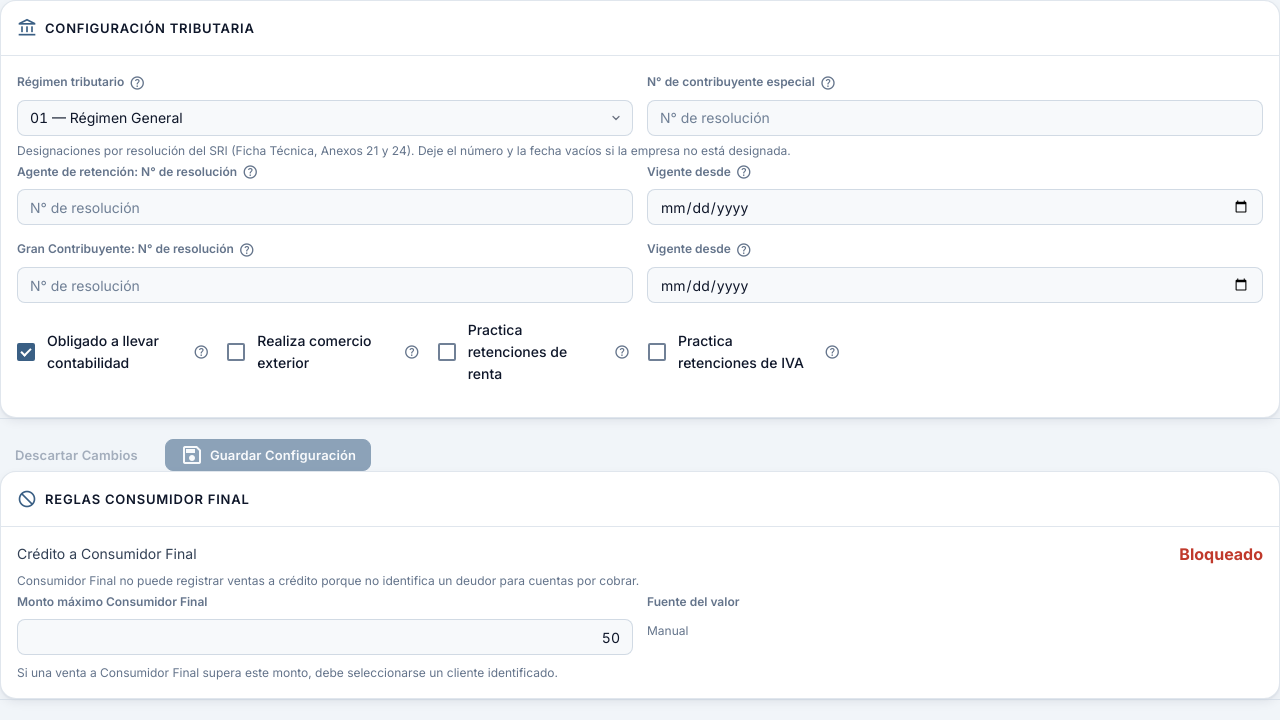
Test: FiscalSettingsSection — designaciones del emisor › rechaza un contribuyente especial fuera del formato del XSD
Expected: the text "Manual" is shown, left=647, top=623, right=688, bottom=638
Type "Res. 5368" into the field with placeholder "N° de resolución" below "N° de contribuyente especial".
click(955, 118); type("Res. 5368")  # box left=647, top=100, right=1263, bottom=136
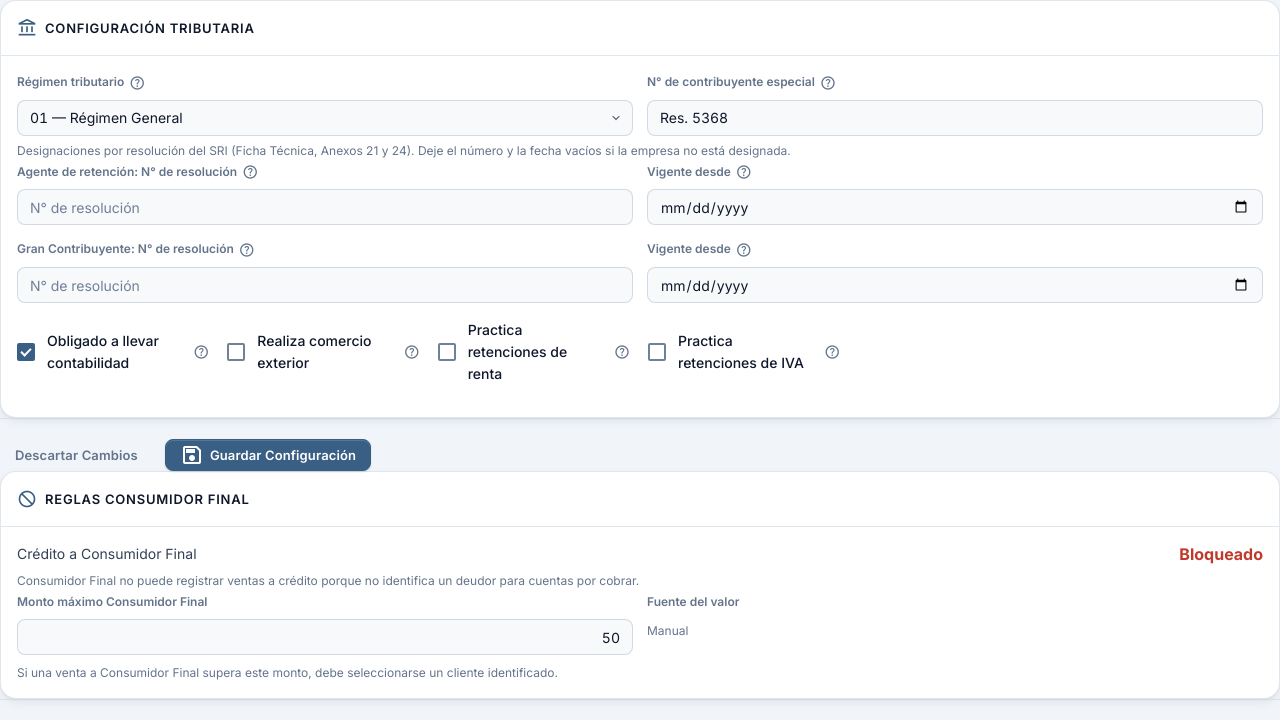
Click the button "Guardar Configuración".
click(268, 455)  # box left=165, top=439, right=371, bottom=471
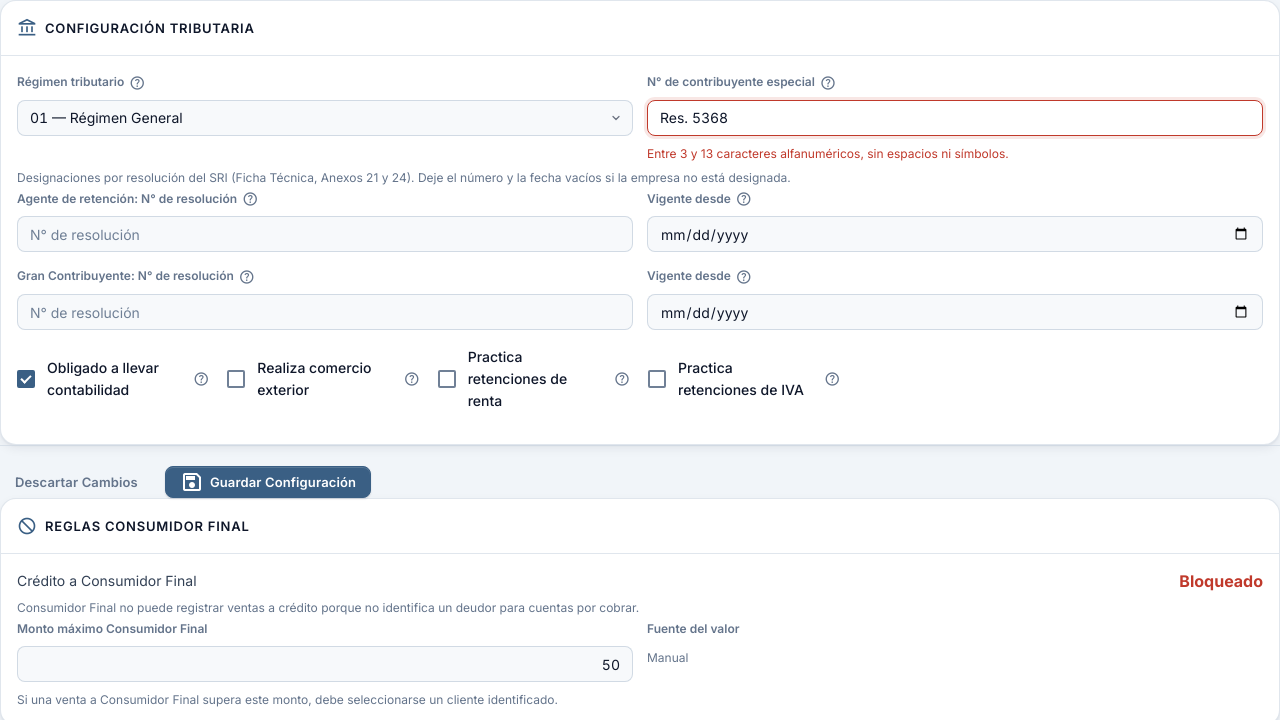
Now the text "Entre 3 y 13 caracteres alfanuméricos, sin espacios ni símbolos." is shown, box left=647, top=146, right=1009, bottom=161
